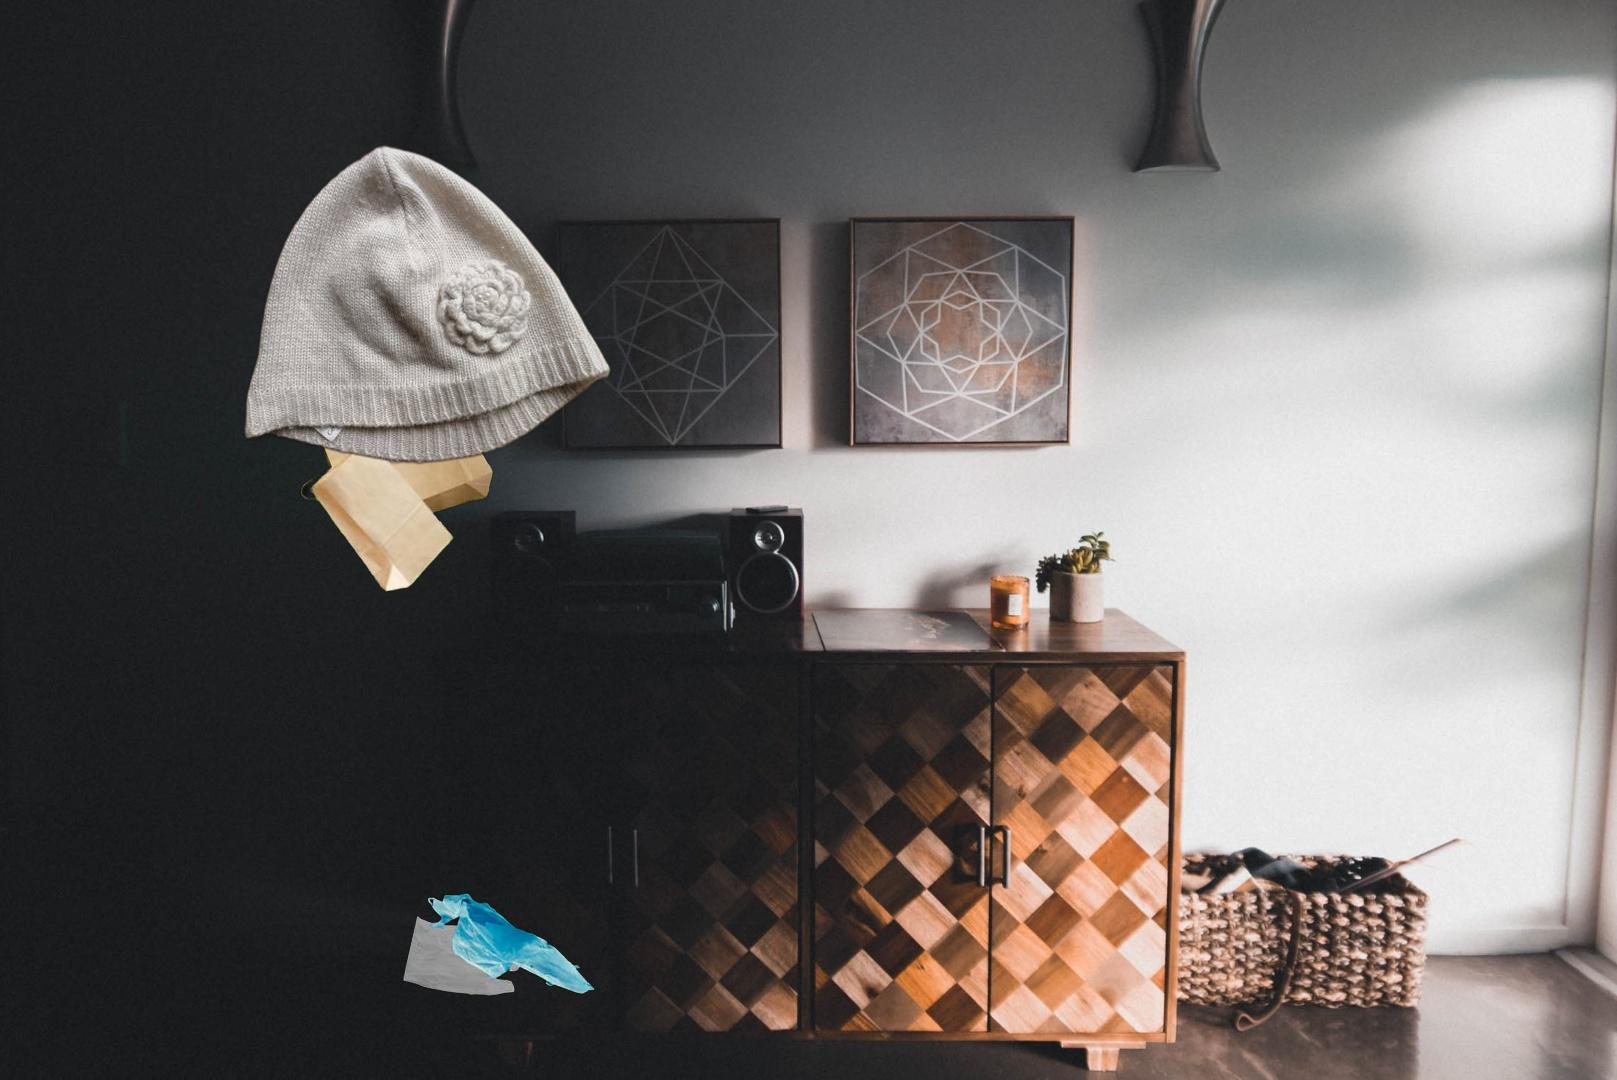clothes: (240, 130, 615, 469)
paper-bag: (296, 386, 496, 594)
plastic-bag: (400, 890, 598, 999)
plastic-bottles: (1534, 650, 1617, 953)
